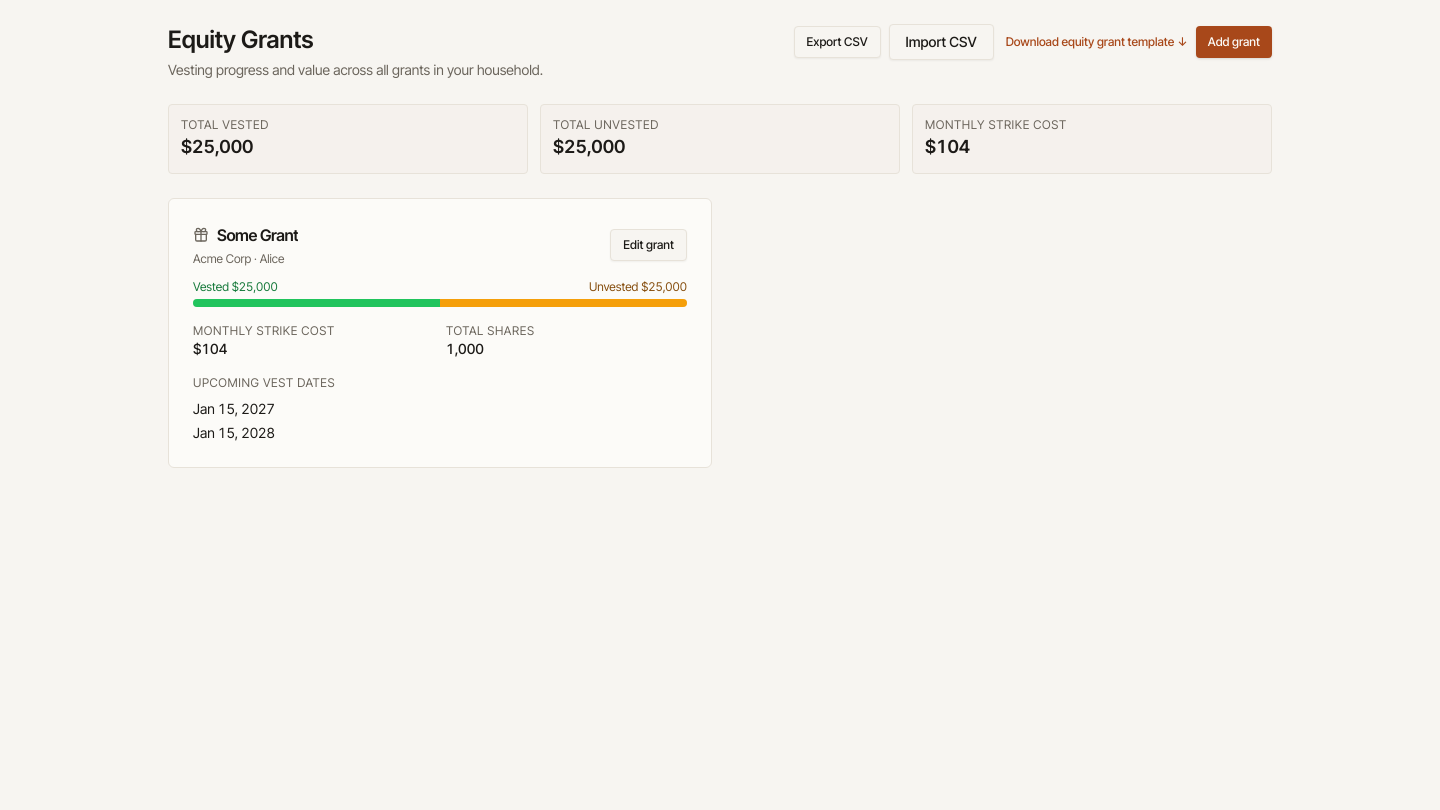
EquityGrants page › no "Manage grants" deflection remains; "Add grant" opens the create drawer (W14)
The width and height of the screenshot is (1440, 810).
Click the button "Add grant": (1234, 42) [1196, 26, 1272, 58]
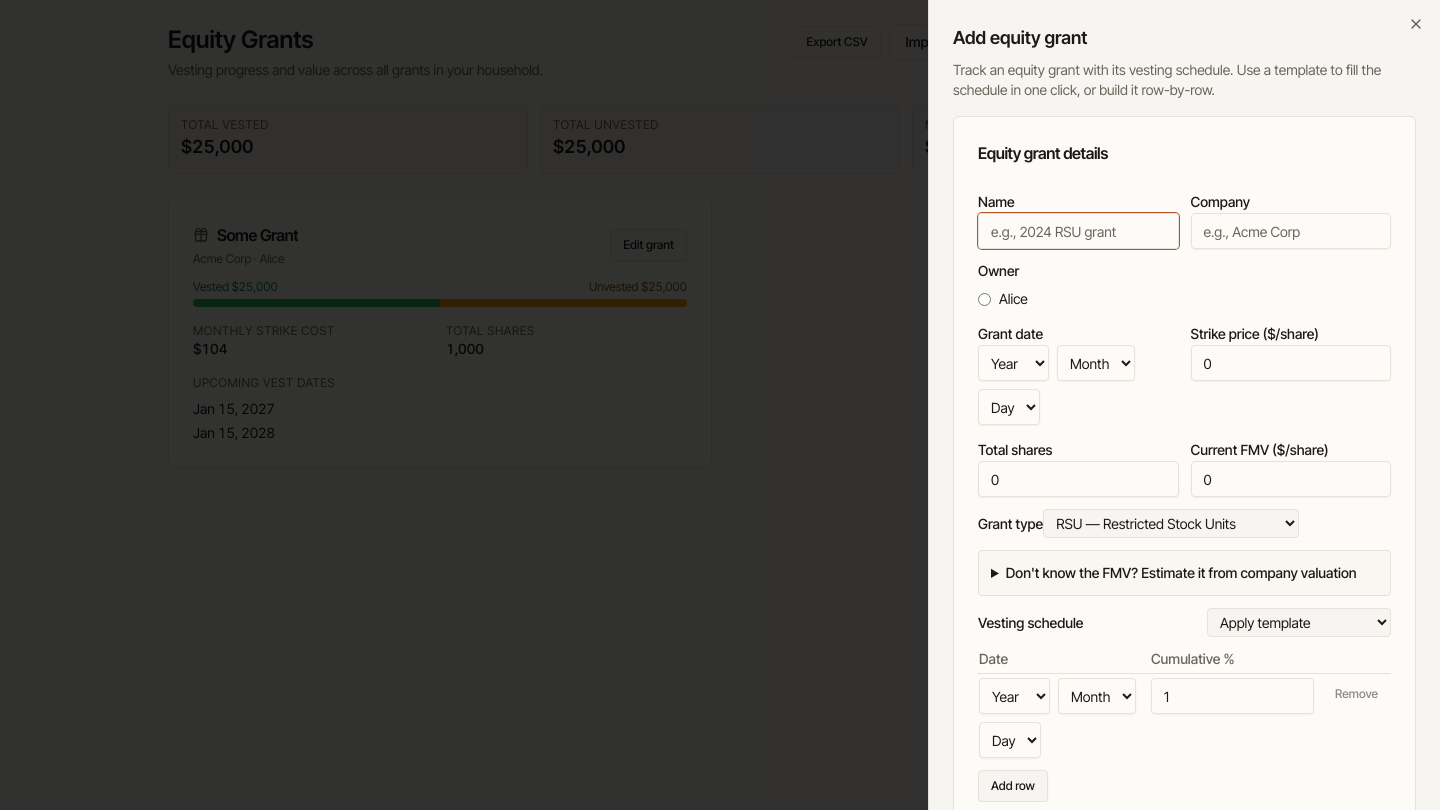
Expected: the dialog "Add equity grant" is shown, [928, 0, 1439, 809]
